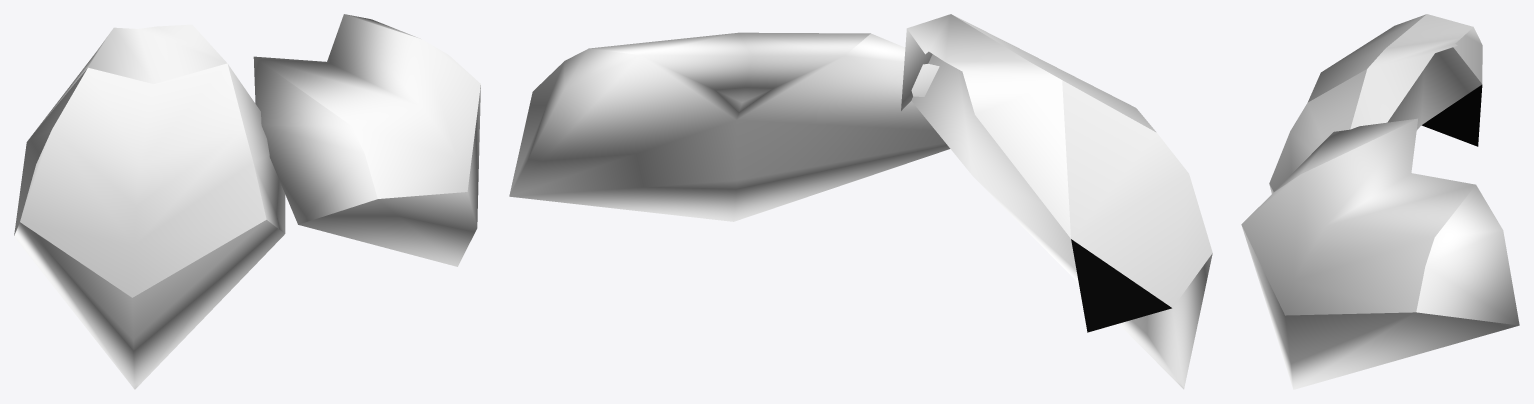
Rendered from Cabelo M 1.glb.
3 renders of one model, left to right at view 1: azimuth 30°, elevation 25°; view 2: azimuth 150°, elevation 25°; view 3: azimuth 270°, elevation 25°, orthographic. The views are drawn at different scales.
Visible parts, largest first — view 1: Cabelo masculino; view 2: Cabelo masculino; view 3: Cabelo masculino.
Boxes of the visible parts, x1=… form: Cabelo masculino: x1=14, y1=14, x2=480, y2=389; Cabelo masculino: x1=509, y1=14, x2=1212, y2=389; Cabelo masculino: x1=1241, y1=14, x2=1519, y2=389.
Size of the model in its own units: 0.2187 by 0.1238 by 0.1099.
1 material, 1 textured.
